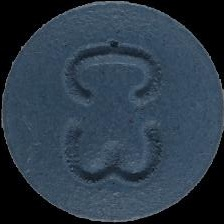16714-360: (0, 0, 224, 224)
